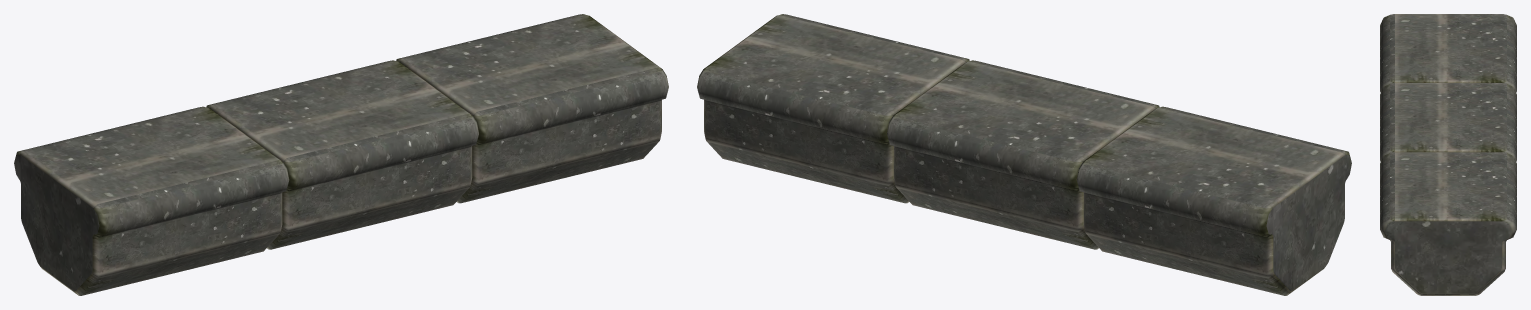
3 views of the same model, side by side, from view 1: azimuth 30°, elevation 25°; view 2: azimuth 150°, elevation 25°; view 3: azimuth 270°, elevation 25° (orthographic). The views are drawn at different scales.
Parts seen in each view (by area): view 1: SM_DeathTemple_Roof_Detail_01v1_LOD0; view 2: SM_DeathTemple_Roof_Detail_01v1_LOD0; view 3: SM_DeathTemple_Roof_Detail_01v1_LOD0.
Part boxes in pixels (left/top/right/bottom): SM_DeathTemple_Roof_Detail_01v1_LOD0: left=14, top=14, right=668, bottom=295; SM_DeathTemple_Roof_Detail_01v1_LOD0: left=697, top=14, right=1351, bottom=295; SM_DeathTemple_Roof_Detail_01v1_LOD0: left=1380, top=14, right=1516, bottom=295.
Bounding box in the file's own units: 4 × 0.6987 × 1.12.
1 material, 1 textured.
